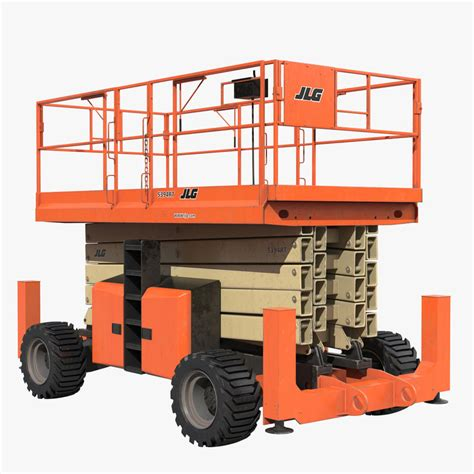Scissor Lift: (16, 57, 453, 446)
